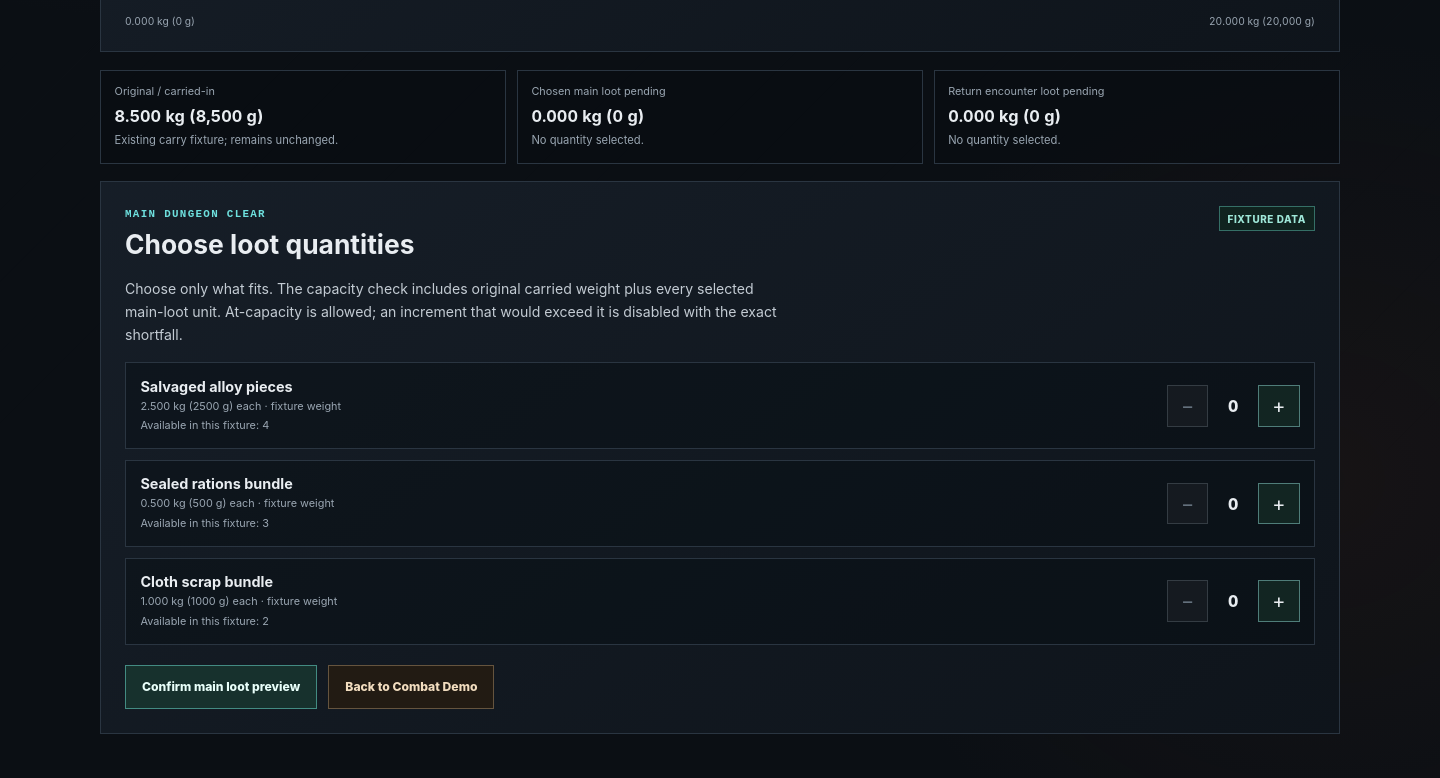
P1-UI-007 Loot selection, capacity and optional return encounter › allows exact capacity and disables the next quantity with the exact overage
The width and height of the screenshot is (1440, 778).
(page scrolled)
Click the button with test id "loot-increase-main-alloy": (1279, 406) [1258, 385, 1300, 427]
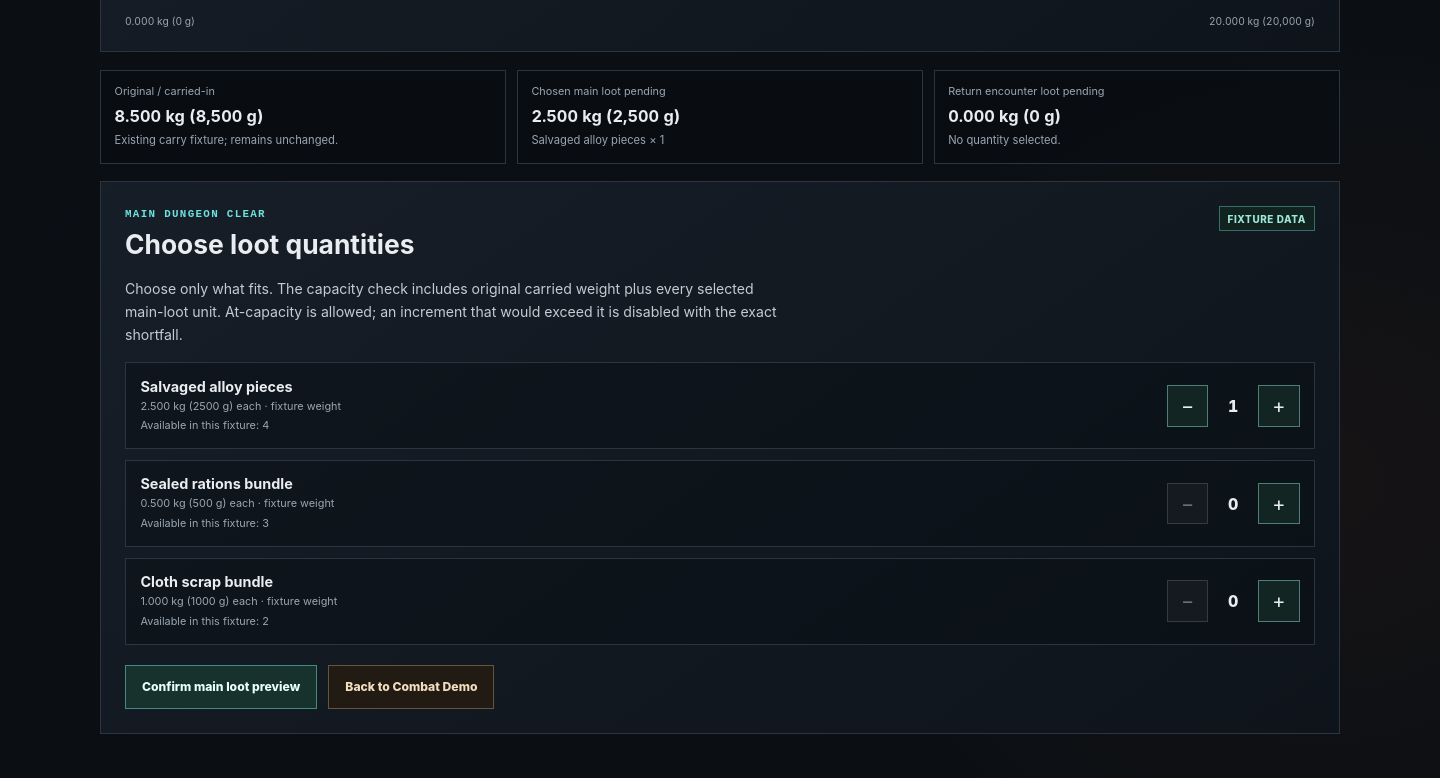
Click the button with test id "loot-increase-main-alloy": (1279, 406) [1258, 385, 1300, 427]
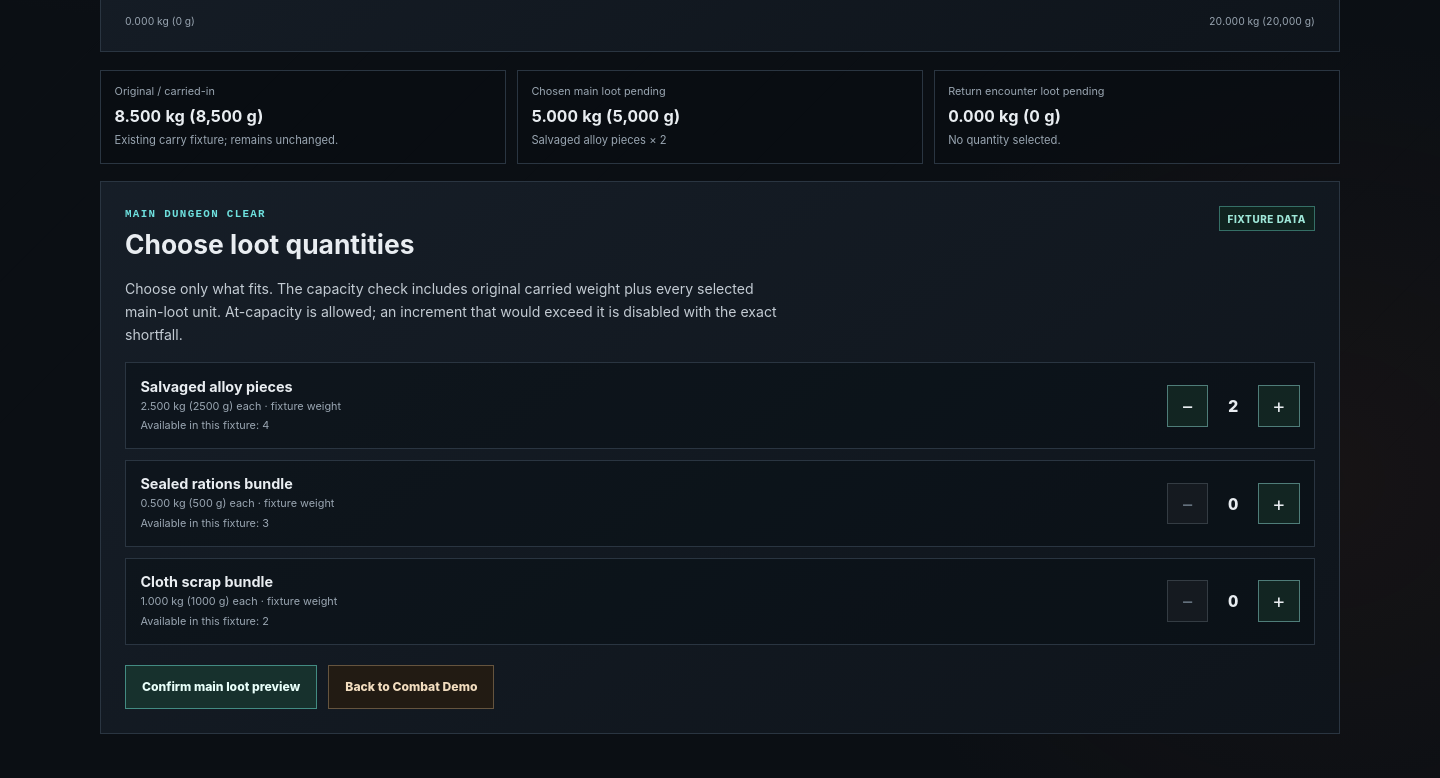
Click the button with test id "loot-increase-main-alloy": (1279, 406) [1258, 385, 1300, 427]
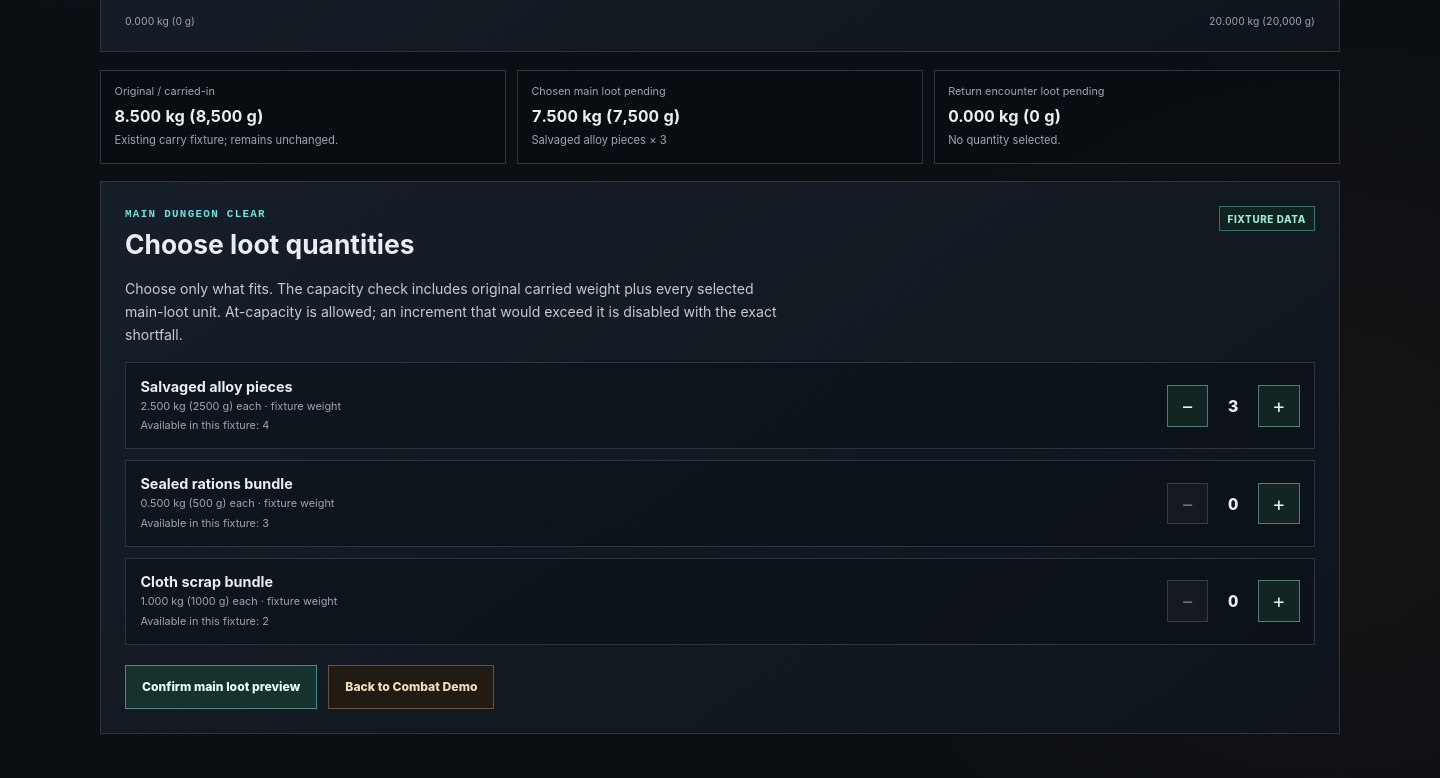
Click the button with test id "loot-increase-main-alloy": (1279, 406) [1258, 385, 1300, 427]
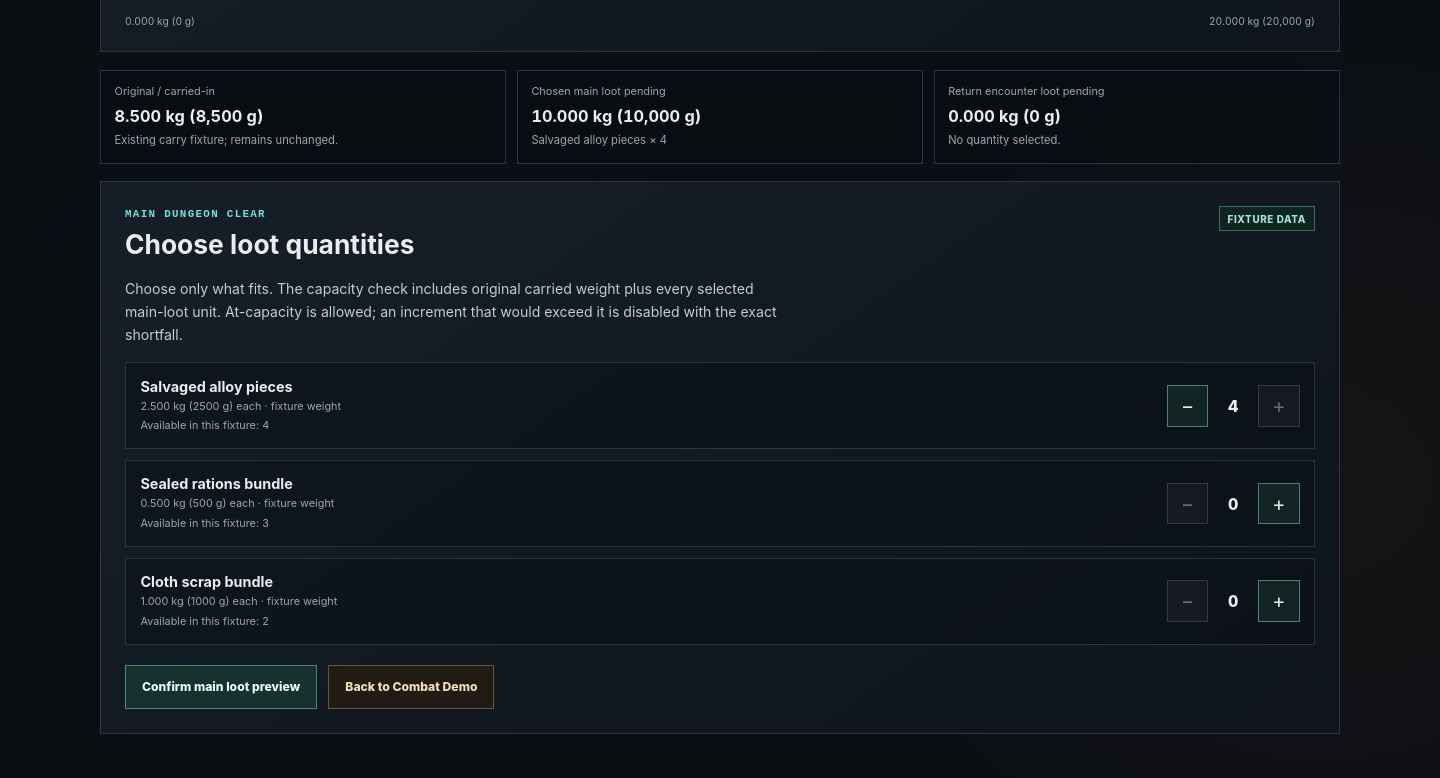
Click the button with test id "loot-increase-main-cloth": (1279, 601) [1258, 580, 1300, 622]
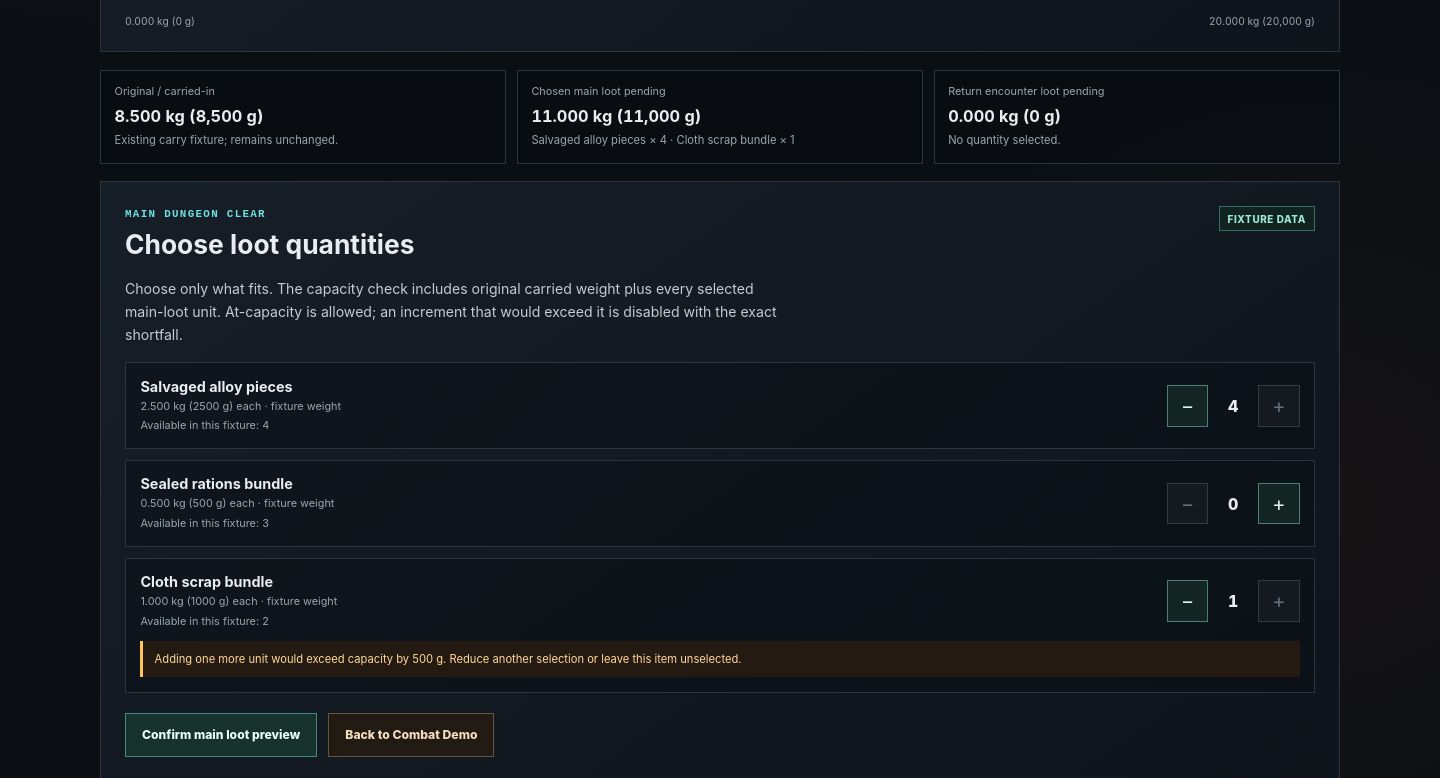
Click the button with test id "loot-increase-main-rations": (1279, 504) [1258, 483, 1300, 524]
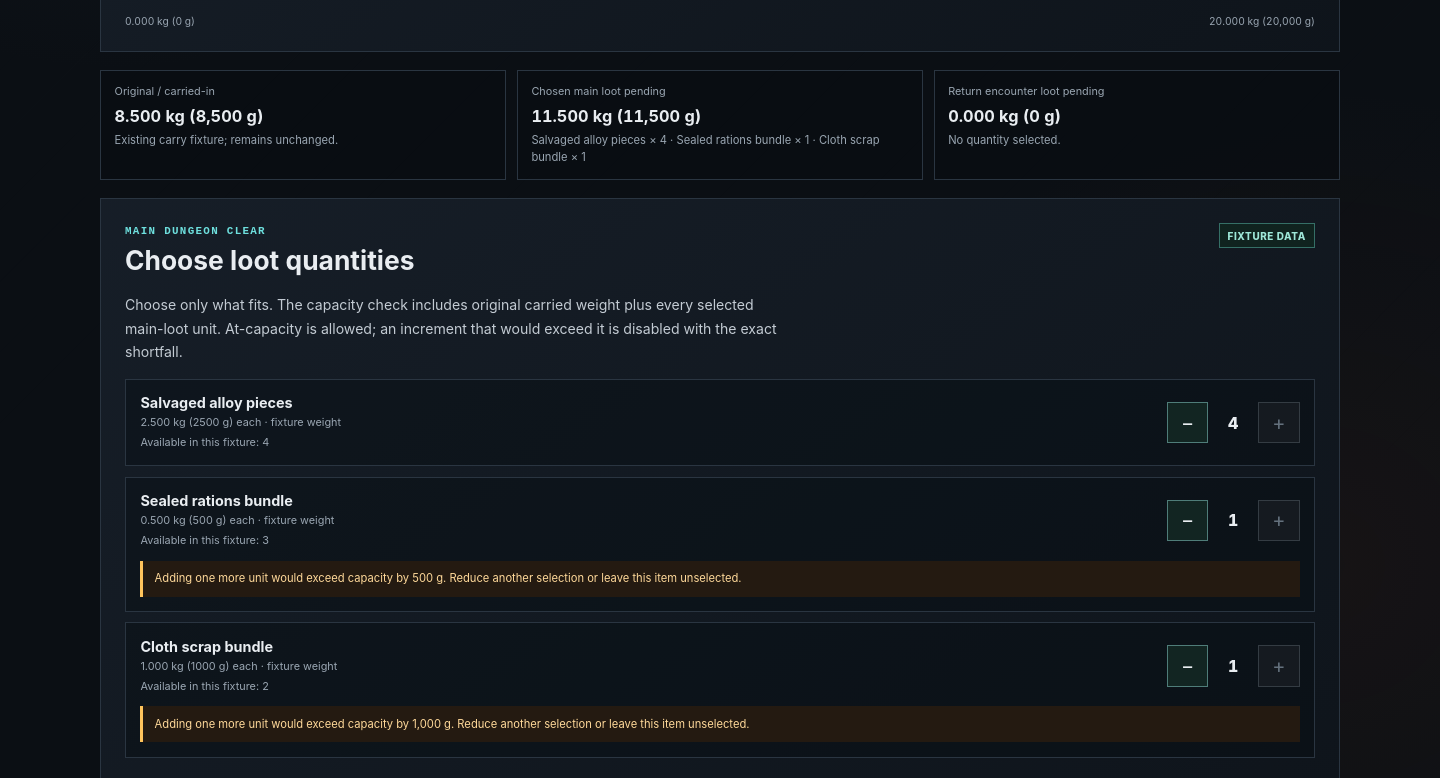
Now the text with test id "loot-overflow-main-rations" shows "exceed capacity by 500 g", box [155, 571, 742, 585]
Now the text with test id "loot-quantity-main-alloy" reads "4", box [1228, 413, 1238, 433]
Now the button with test id "loot-increase-main-rations" is disabled, box [1258, 500, 1300, 541]
